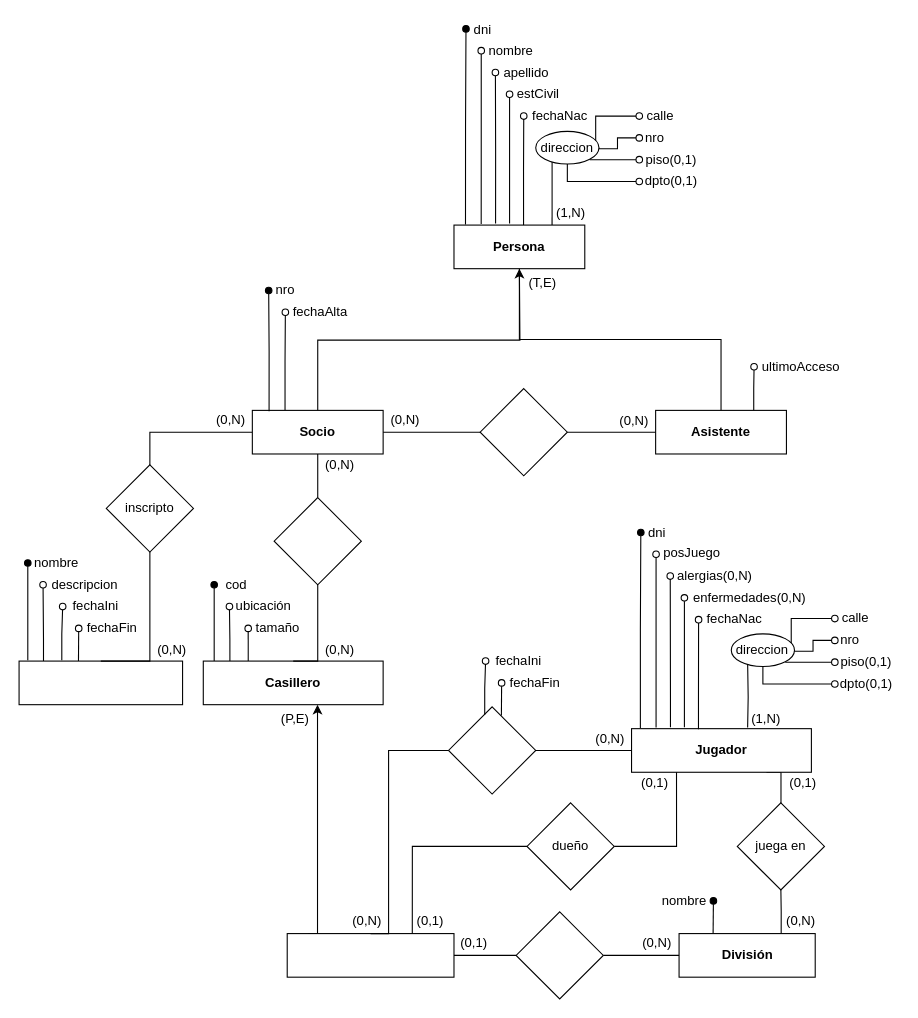
The diagram is 918 pixels wide and 1018 high, and some of its shapes have lost their labels. The shapes that lost their labels are listed below. From the top down, each one's centre as x and y in pixels, then its label:
At (523,431): "tiene vínculo".
At (317,540): "tiene acceso".
At (100,682): "Actividad".
At (491,750): "cronología".
At (370,954): "CasilleroJockey".
At (559,955): "corresponde".
